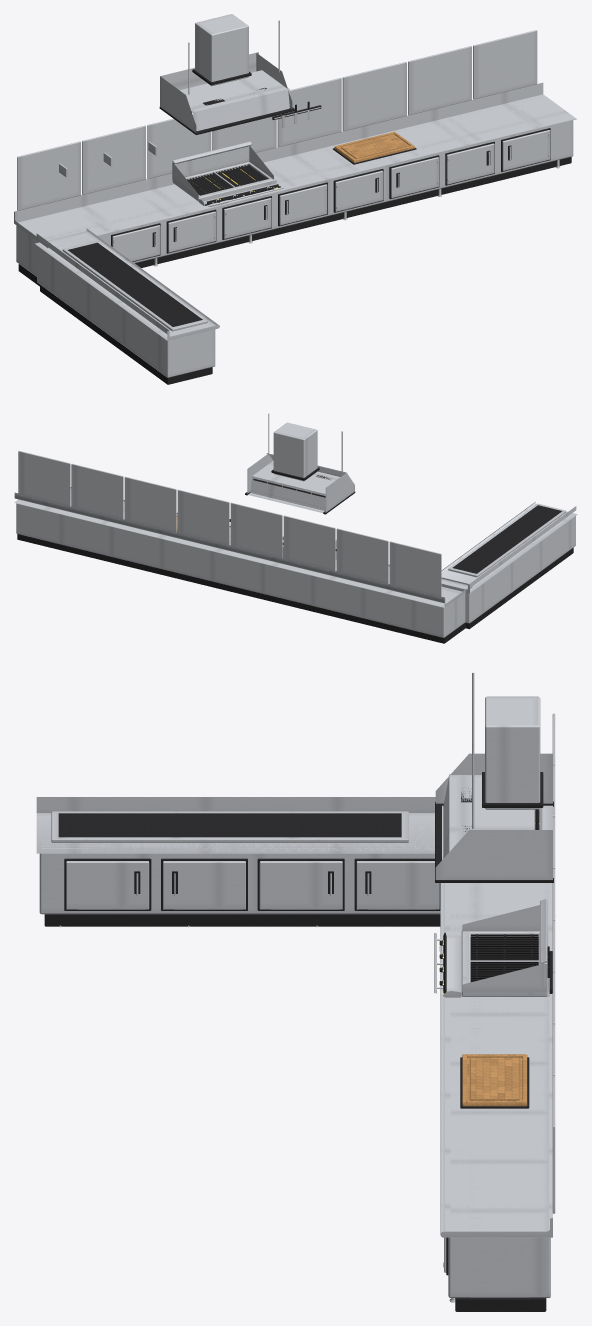
File: industrial_kitchen.glb
3 renders of one model, top to bottom at view 1: azimuth 30°, elevation 25°; view 2: azimuth 150°, elevation 25°; view 3: azimuth 270°, elevation 25°, orthographic. The views are drawn at different scales.
Parts seen in each view (by area): view 1: IndustrialKitchenRoot; view 2: IndustrialKitchenRoot; view 3: IndustrialKitchenRoot.
Boxes of the visible parts, box(x1,y1,x2,y2) form: IndustrialKitchenRoot: box(14, 14, 576, 384); IndustrialKitchenRoot: box(14, 413, 577, 643); IndustrialKitchenRoot: box(36, 673, 555, 1311).
Bounding box in the file's own units: 10.17 × 3.8 × 5.25.
Materials: 5 (3 with a texture image).
